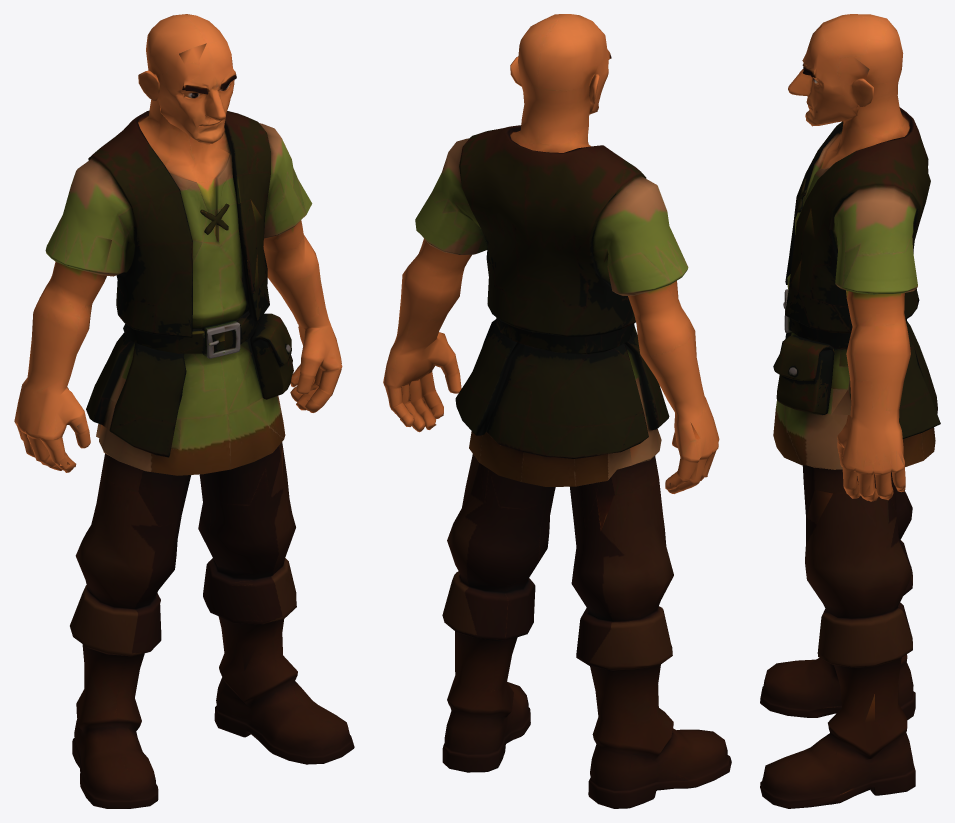
File: koerper.glb
3 renders of one model, left to right at view 1: azimuth 30°, elevation 25°; view 2: azimuth 150°, elevation 25°; view 3: azimuth 270°, elevation 25°, orthographic. The views are drawn at different scales.
Visible parts, largest first — view 1: koerper; view 2: koerper; view 3: koerper.
Part boxes in pixels (<box>): koerper: <box>14,14,354,808</box>; koerper: <box>383,14,731,808</box>; koerper: <box>760,14,940,808</box>.
Size of the model in its own units: 0.8034 by 1.8 by 0.4031.
1 material, 1 textured.
